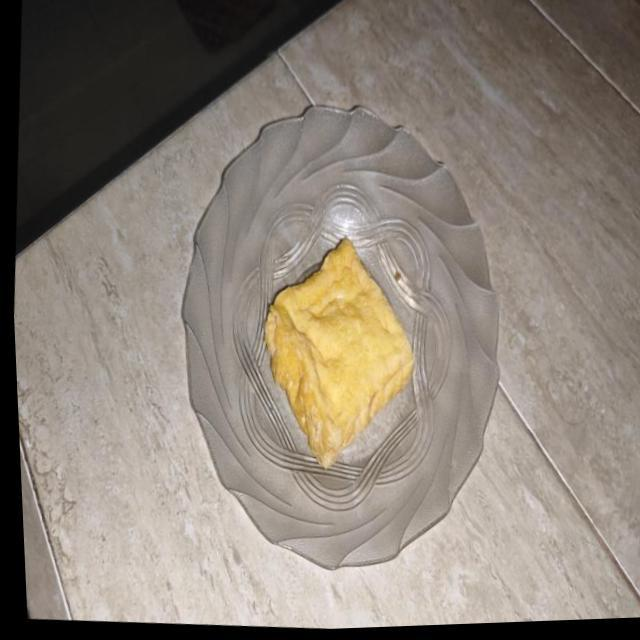tahu_goreng: (264, 237, 414, 468)
